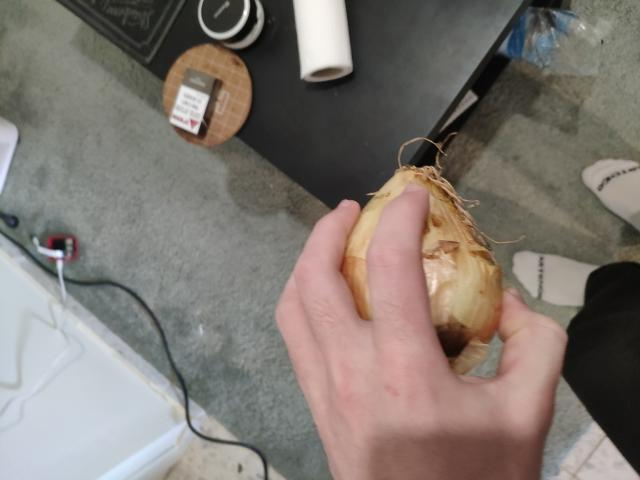onion: (347, 170, 504, 352)
